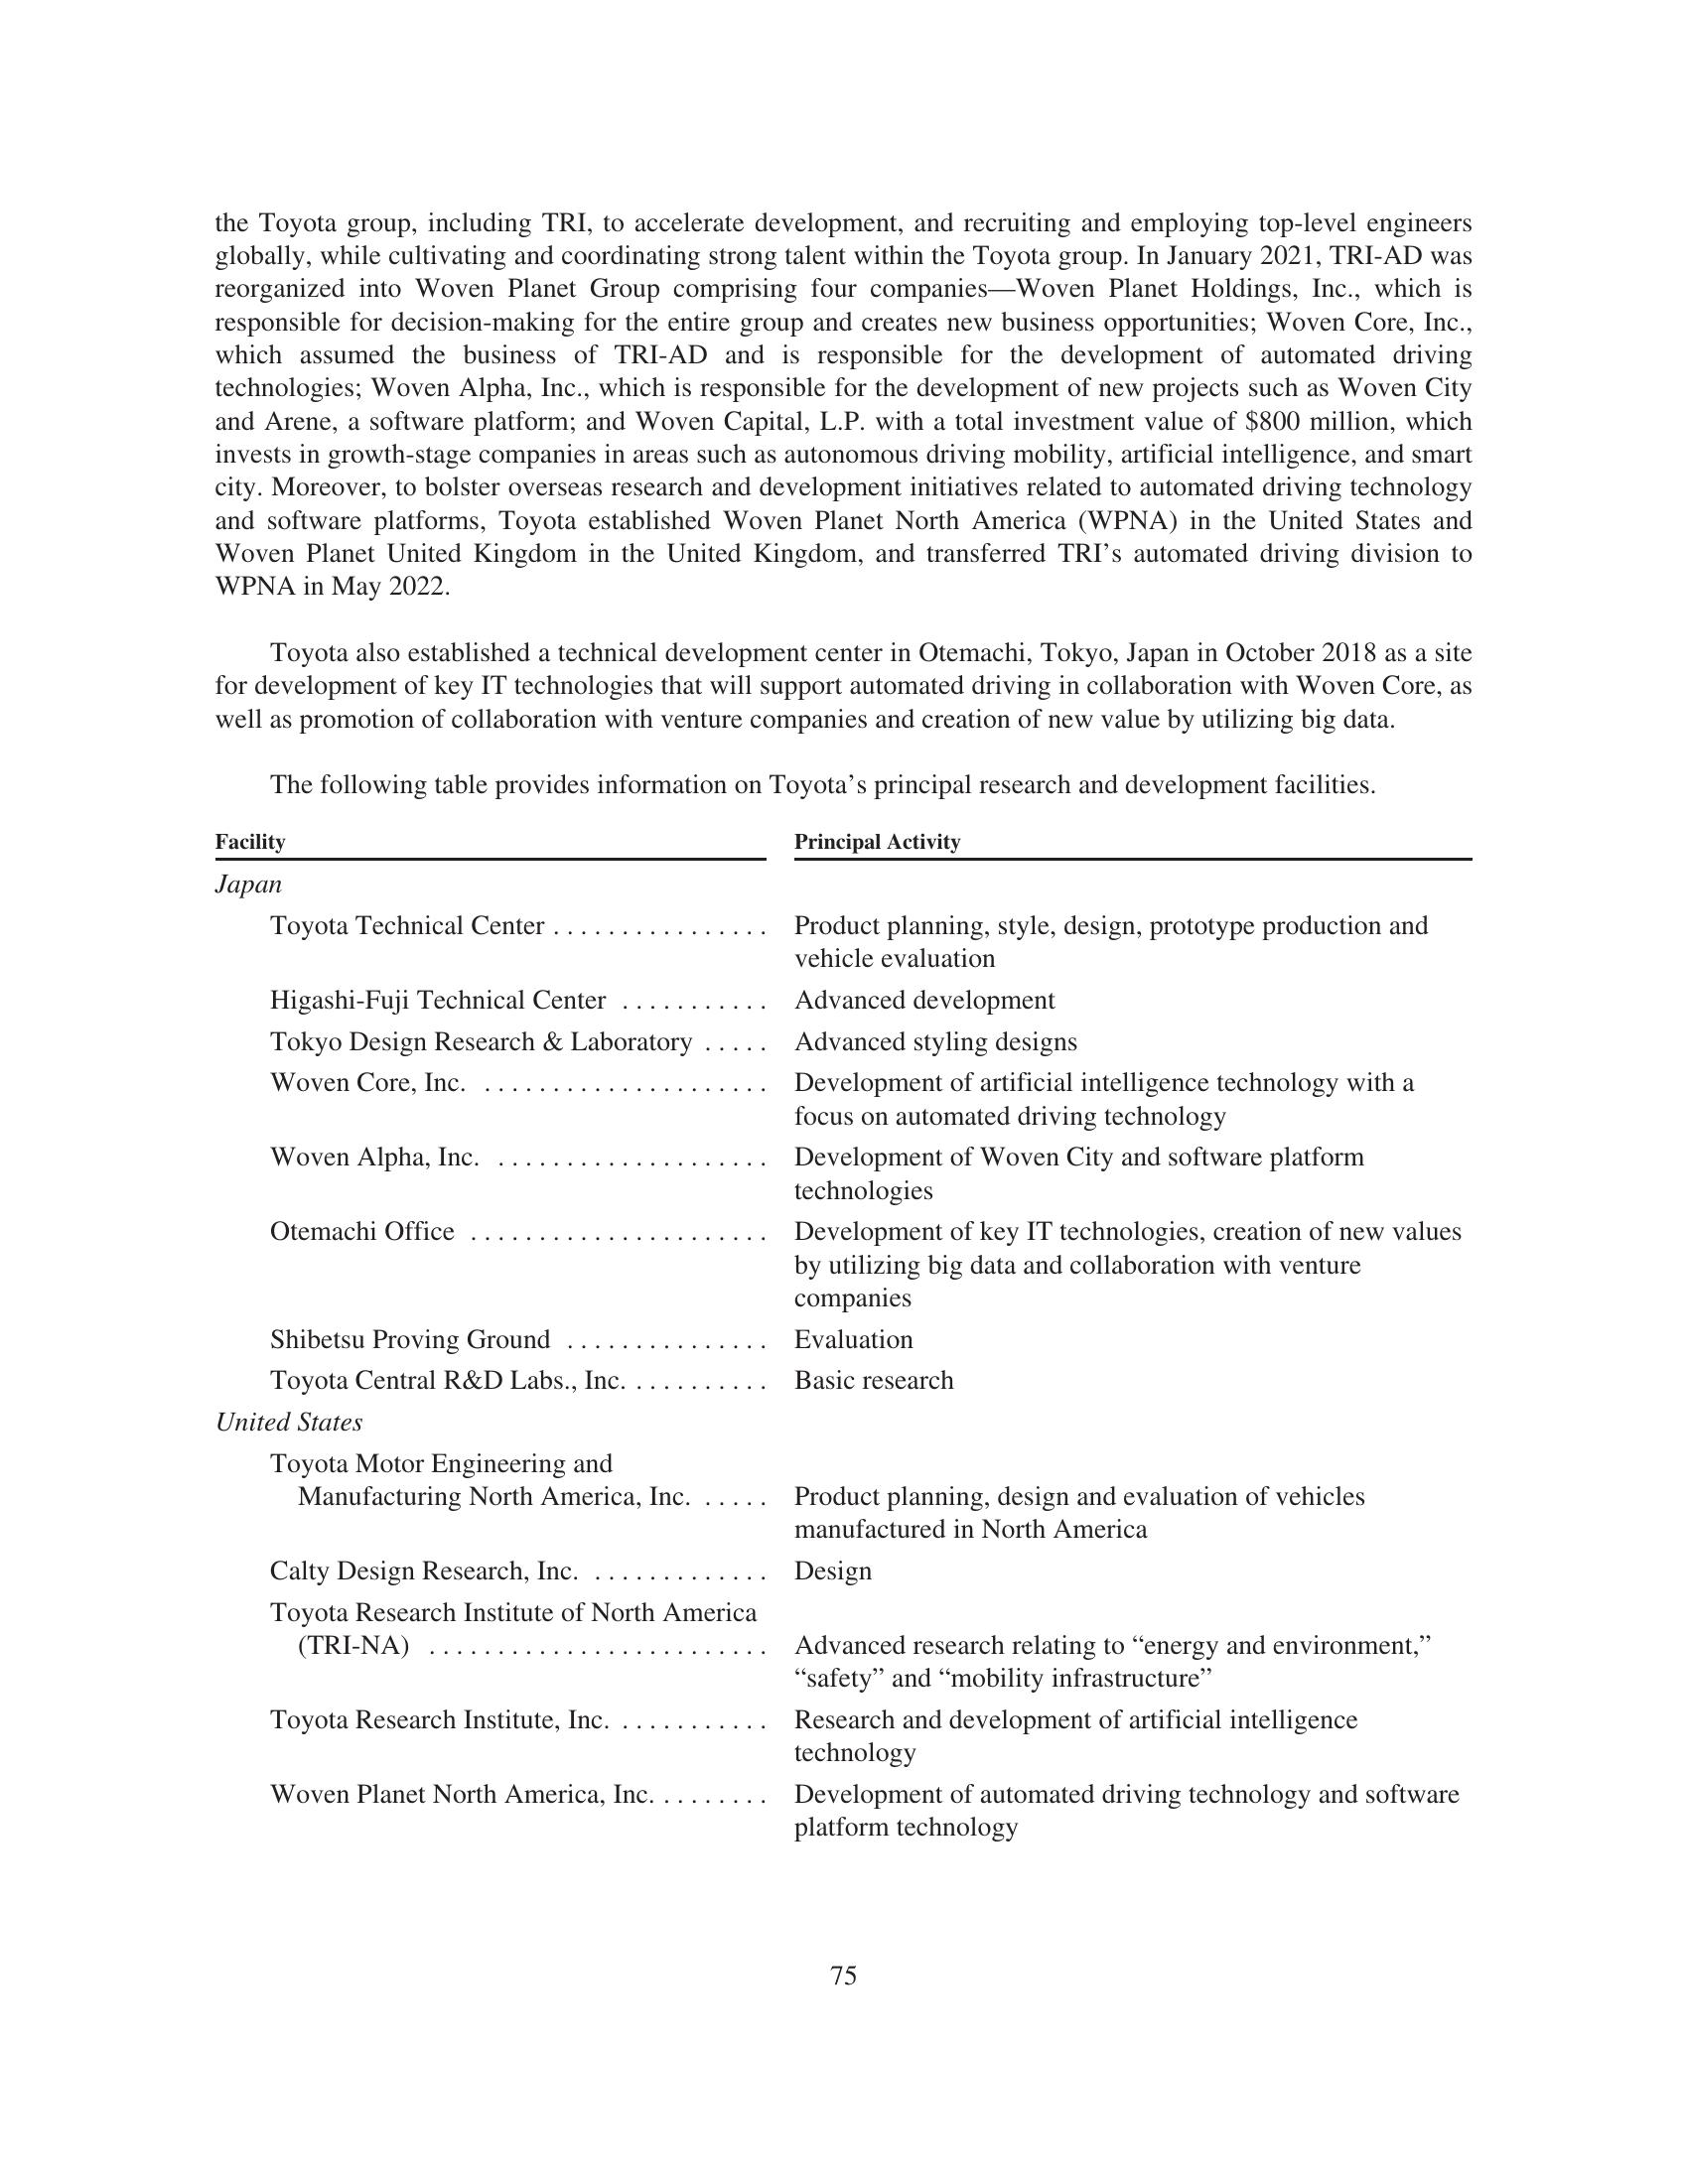Footer: (0, 1946, 1688, 2184)
Header: (0, 0, 1688, 167)
Table: (112, 808, 1582, 1865)
